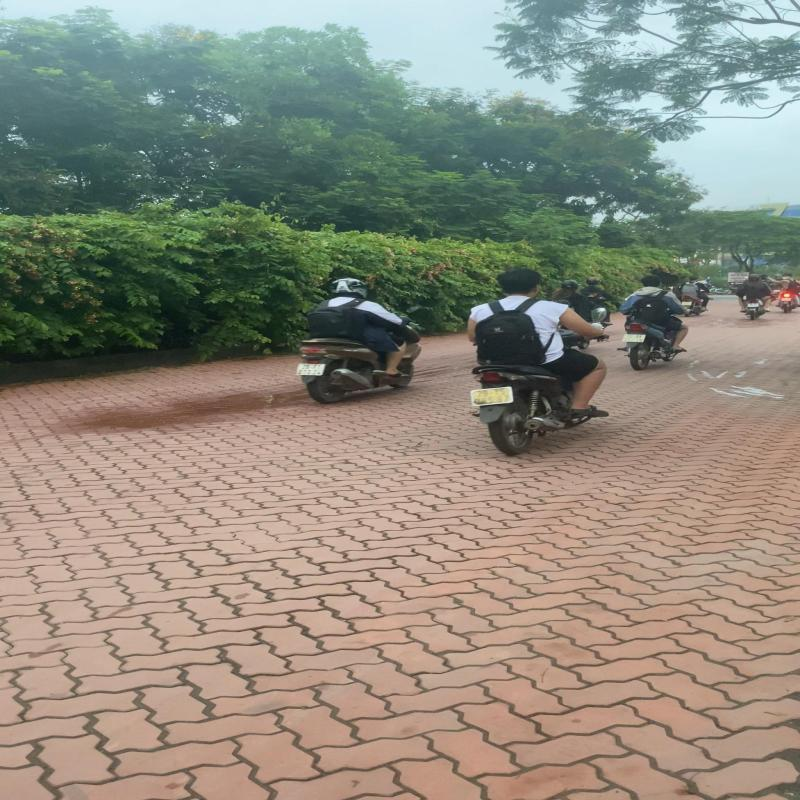licenseplate: (466, 388, 517, 407), (621, 334, 646, 343)
motorcyclist: (459, 264, 613, 456), (616, 276, 702, 372)
nohelmet: (496, 268, 540, 296), (642, 276, 661, 288)
